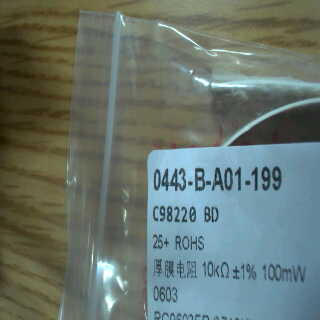10kR: (199, 257, 234, 280)
